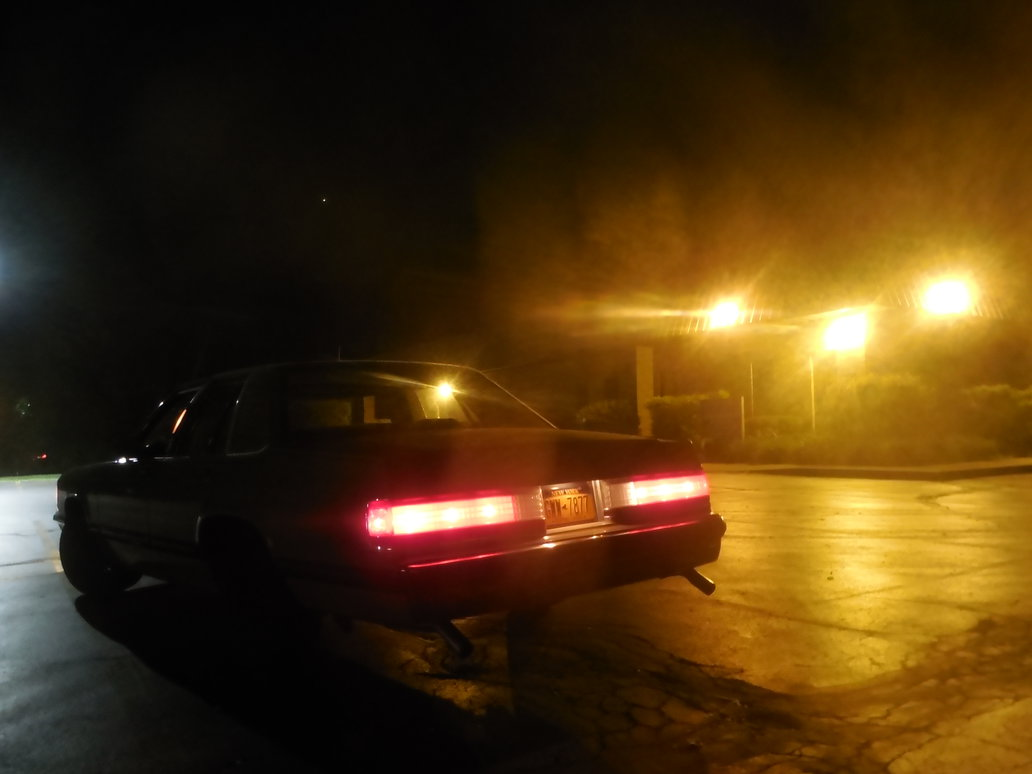car: (40, 337, 735, 646)
